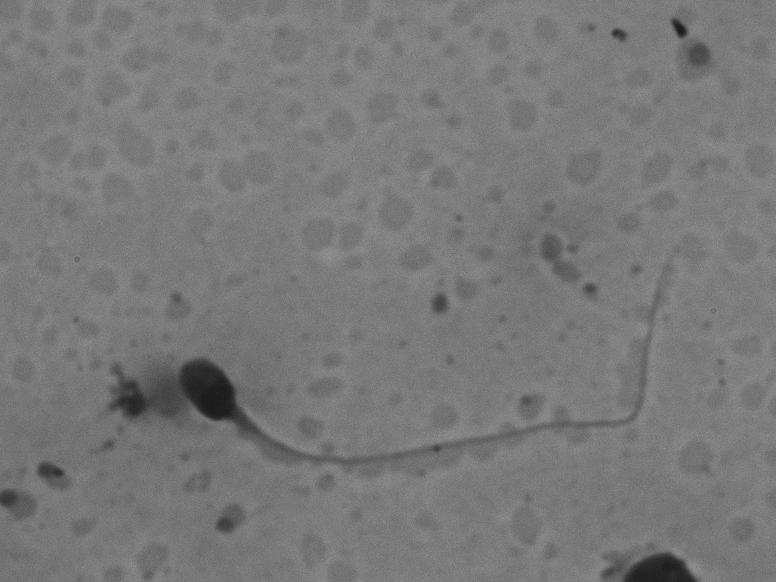Abnormal: (171, 232, 722, 489)
